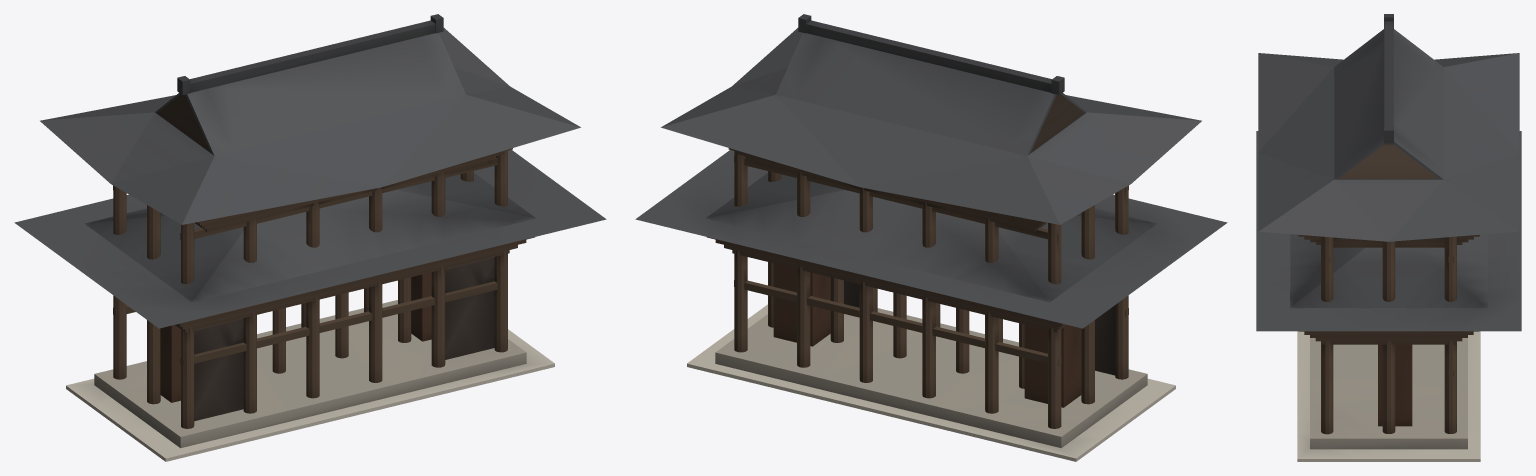
The model's file is nandaimon.glb.
The picture shows the model from 3 angles, left to right: view 1: azimuth 30°, elevation 25°; view 2: azimuth 150°, elevation 25°; view 3: azimuth 270°, elevation 25°; orthographic projection. The views are drawn at different scales.
Visible parts, largest first — view 1: p2_roofs, p1_halls, p0_grounds; view 2: p2_roofs, p1_halls, p0_grounds; view 3: p2_roofs, p0_grounds, p1_halls.
Boxes of the visible parts, x1,y1,x2,y2 form: p2_roofs: (14, 14, 606, 328); p1_halls: (113, 148, 534, 428); p0_grounds: (66, 300, 554, 461); p2_roofs: (635, 14, 1227, 328); p1_halls: (707, 148, 1128, 428); p0_grounds: (687, 304, 1175, 461); p2_roofs: (1256, 14, 1521, 331); p0_grounds: (1297, 331, 1480, 461); p1_halls: (1298, 234, 1479, 434).
Size of the model in its own units: 41.4 by 29.16 by 23.2.
